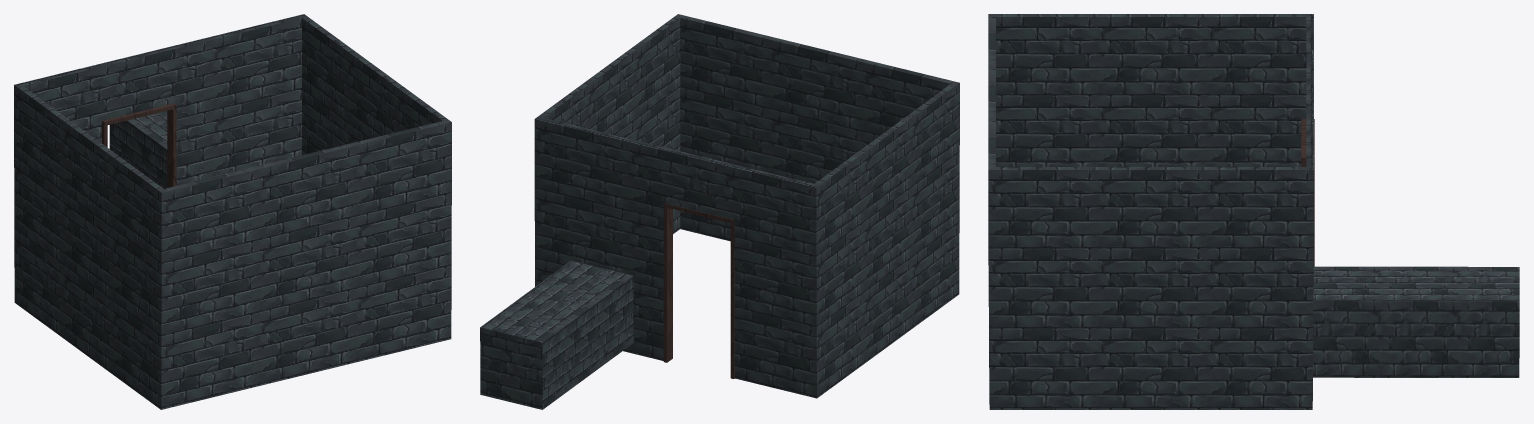
File: obj_scene_4_walls.FBX
3 views of the same model, side by side, from view 1: azimuth 30°, elevation 25°; view 2: azimuth 150°, elevation 25°; view 3: azimuth 270°, elevation 25° (orthographic). The views are drawn at different scales.
Visible parts, largest first — view 1: obj_base_walls; view 2: obj_base_walls; view 3: obj_base_walls.
Part boxes in pixels (x1,y1,x2,y2): obj_base_walls: (14,14,451,409); obj_base_walls: (480,14,959,409); obj_base_walls: (988,14,1519,409).
Bounding box in the file's own units: 168 × 121 × 242.
Materials: 2 (2 with a texture image).
